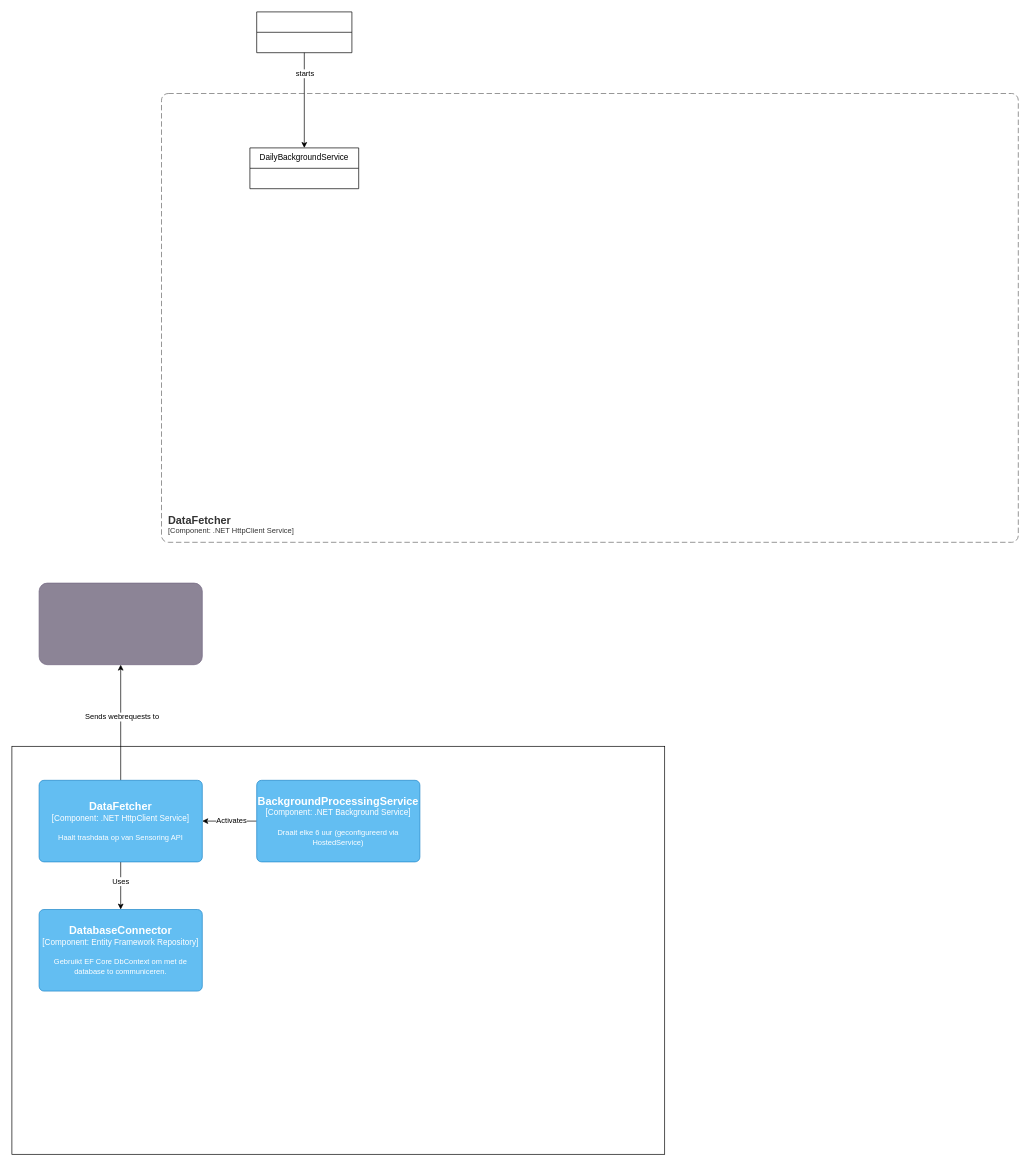
This 1030x1166 diagram has some shape labels left out. Each missing label, with the centre of its shape:
"Program.cs" belongs at (x=304, y=32).
"Sensoring API [.NET Core API] Levert gedetecteerd afval." belongs at (x=120, y=623).
